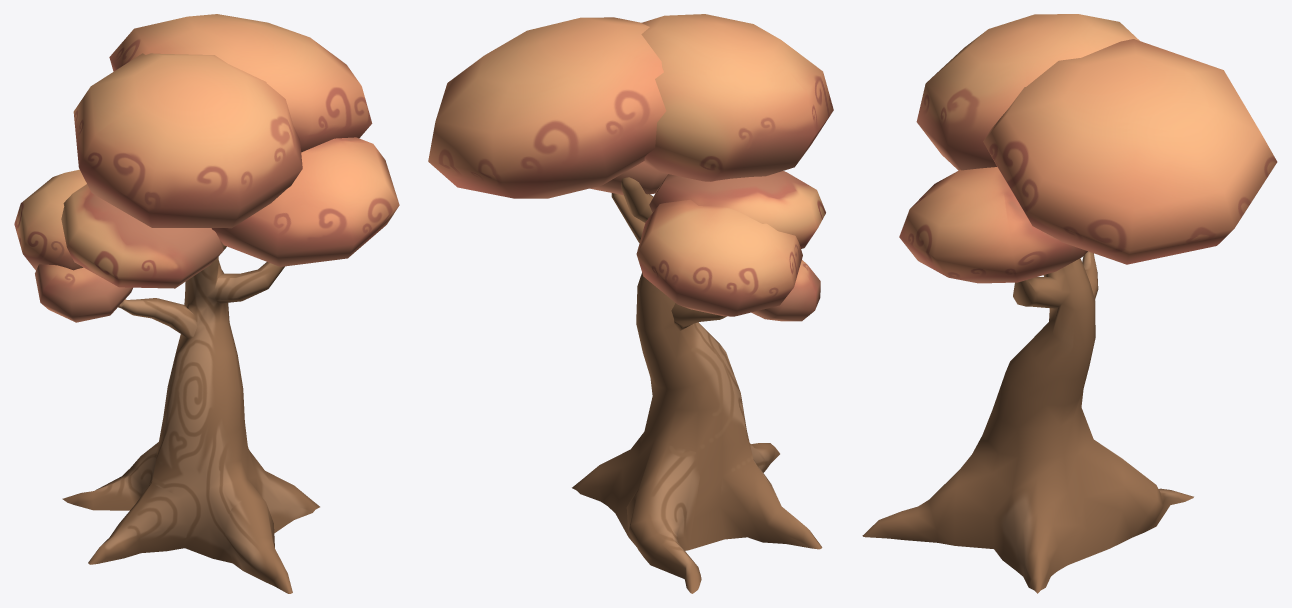
The model's file is Tree_Orange.fbx.
3 renders of one model, left to right at view 1: azimuth 30°, elevation 25°; view 2: azimuth 150°, elevation 25°; view 3: azimuth 270°, elevation 25°, orthographic. The views are drawn at different scales.
Parts seen in each view (by area): view 1: Tree, Leaf6, Leaf2, Leaf5, Leaf4, Leaf1, Leaf3; view 2: Tree, Leaf2, Leaf6, Leaf1, Leaf4, Leaf3, Leaf5; view 3: Leaf2, Tree, Leaf6, Leaf5.
Boxes of the visible parts, x1=… form: Tree: x1=62, y1=243, x2=319, y2=593; Leaf6: x1=73, y1=53, x2=302, y2=228; Leaf2: x1=109, y1=14, x2=372, y2=152; Leaf5: x1=211, y1=137, x2=399, y2=266; Leaf4: x1=61, y1=184, x2=223, y2=288; Leaf1: x1=14, y1=169, x2=86, y2=270; Leaf3: x1=35, y1=264, x2=132, y2=322; Tree: x1=572, y1=177, x2=822, y2=593; Leaf2: x1=428, y1=17, x2=666, y2=198; Leaf6: x1=641, y1=14, x2=833, y2=181; Leaf1: x1=636, y1=199, x2=802, y2=316; Leaf4: x1=649, y1=171, x2=825, y2=248; Leaf3: x1=751, y1=260, x2=820, y2=321; Leaf5: x1=590, y1=162, x2=667, y2=195; Leaf2: x1=983, y1=39, x2=1277, y2=264; Tree: x1=862, y1=251, x2=1193, y2=593; Leaf6: x1=916, y1=14, x2=1139, y2=170; Leaf5: x1=899, y1=167, x2=1087, y2=283.
Bounding box in the file's own units: 50.78 × 68 × 51.37.
2 materials, 2 textured.
